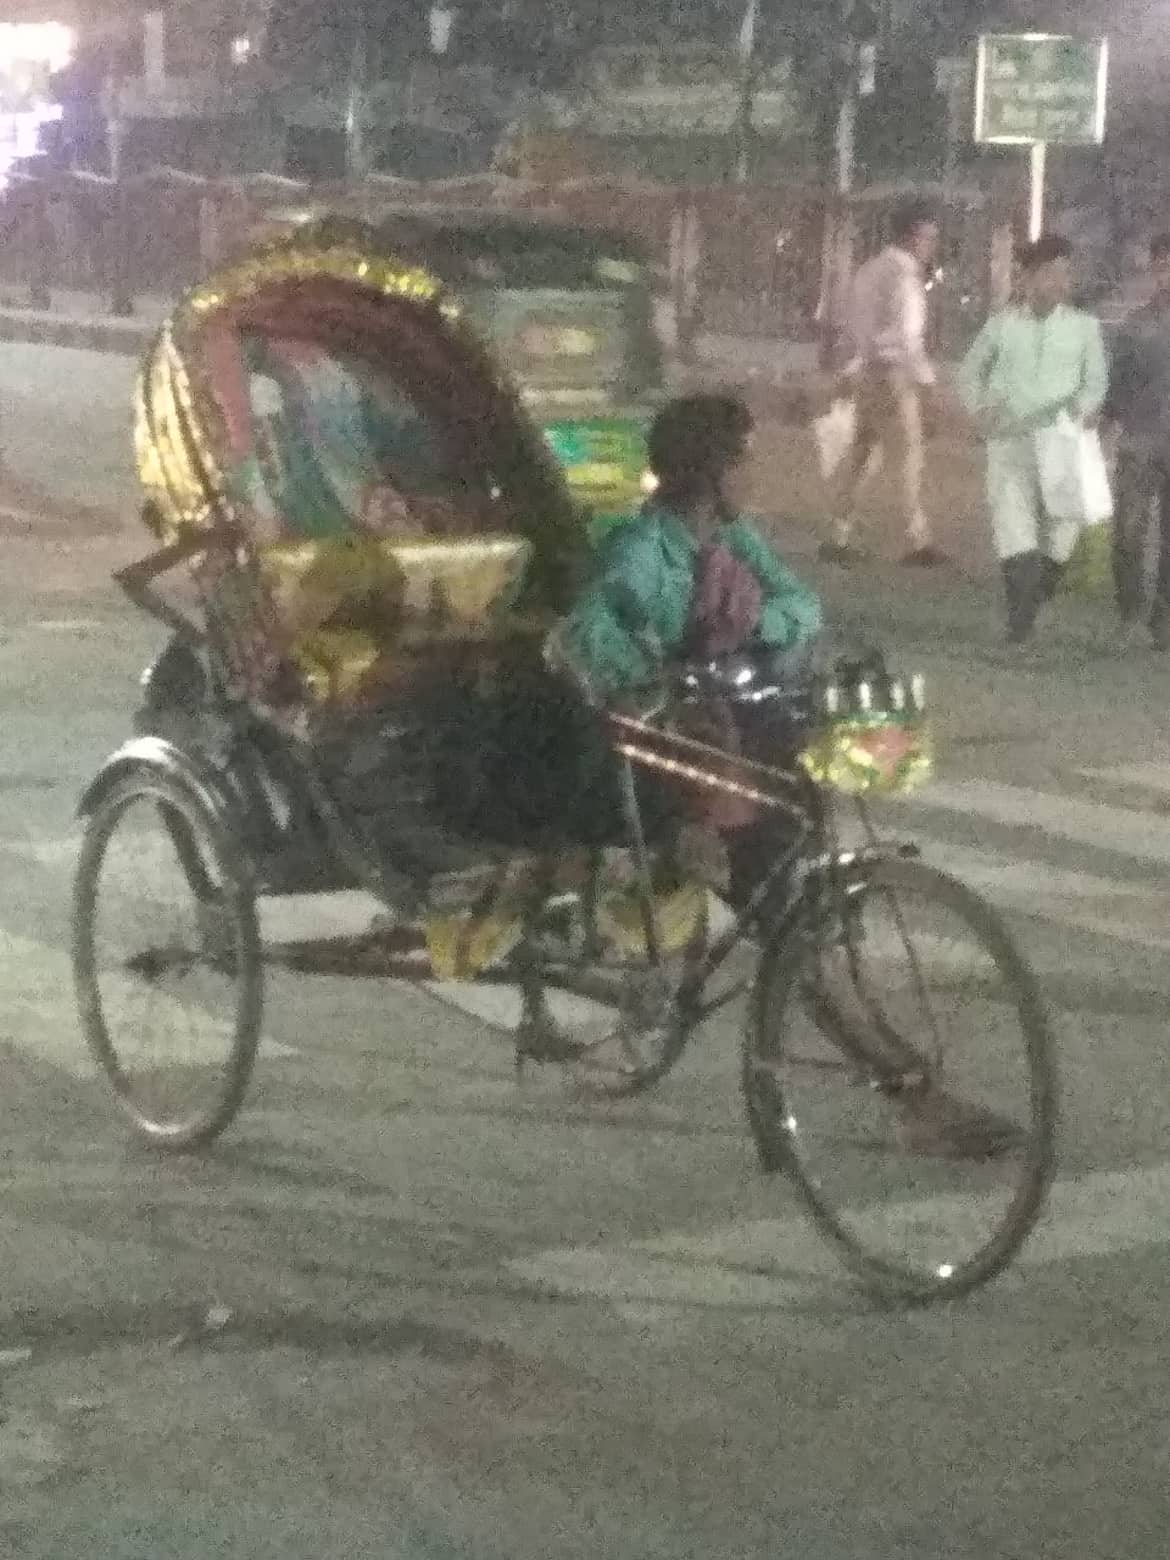Rickshaw: (75, 233, 1090, 1323)
